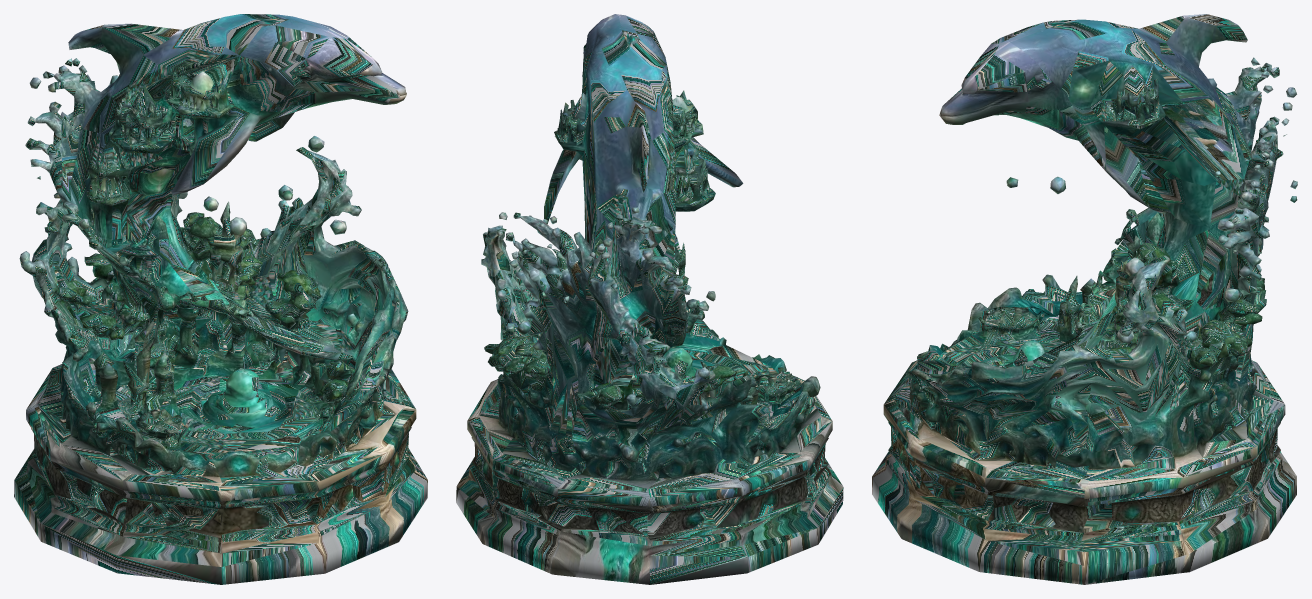
File: Emerald_Dolphin_and_t.glb
3 renders of one model, left to right at view 1: azimuth 30°, elevation 25°; view 2: azimuth 150°, elevation 25°; view 3: azimuth 270°, elevation 25°, orthographic. The views are drawn at different scales.
Parts seen in each view (by area): view 1: Emerald_Dolphin_and_t; view 2: Emerald_Dolphin_and_t; view 3: Emerald_Dolphin_and_t.
Boxes of the visible parts, x1=… form: Emerald_Dolphin_and_t: x1=14, y1=14, x2=427, y2=584; Emerald_Dolphin_and_t: x1=456, y1=14, x2=843, y2=584; Emerald_Dolphin_and_t: x1=872, y1=14, x2=1297, y2=584.
Bounding box in the file's own units: 1.49 × 1.9 × 1.49.
Materials: 1 (1 with a texture image).
